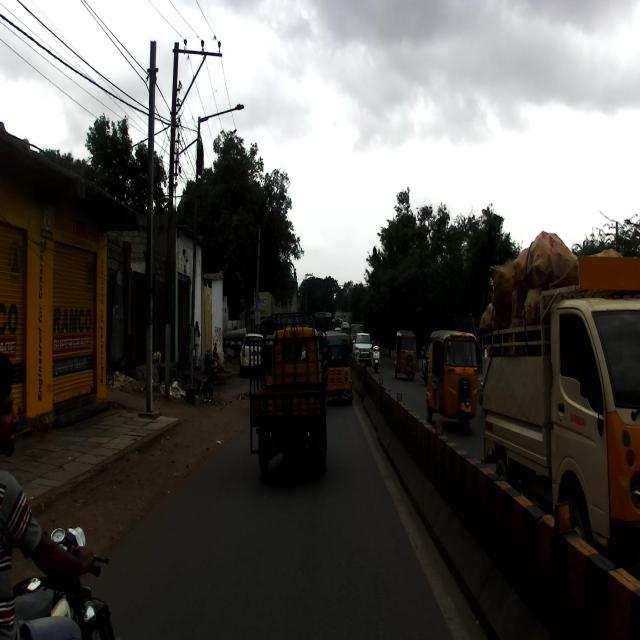autorickshaw: (248, 310, 331, 475), (424, 328, 482, 435)
motorcycle_RoyalEnfield: (11, 523, 118, 639)
truck: (478, 229, 640, 578)
